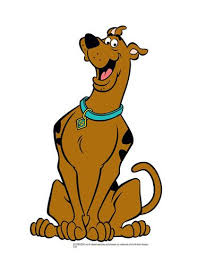scooby: (30, 24, 163, 242)
